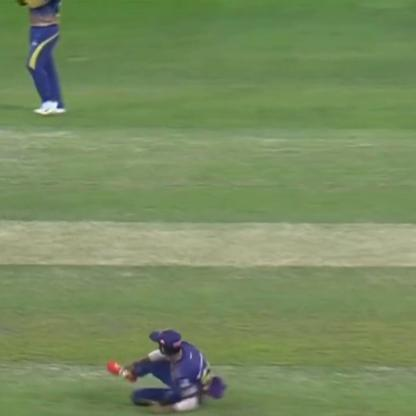ball: (116, 365, 134, 382)
